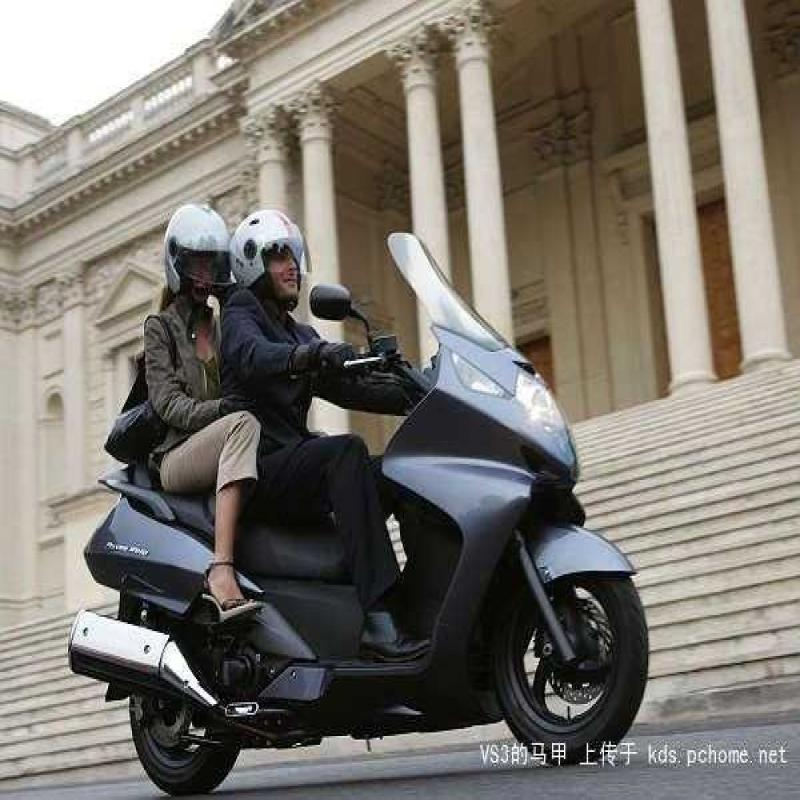bike: (78, 181, 647, 779)
